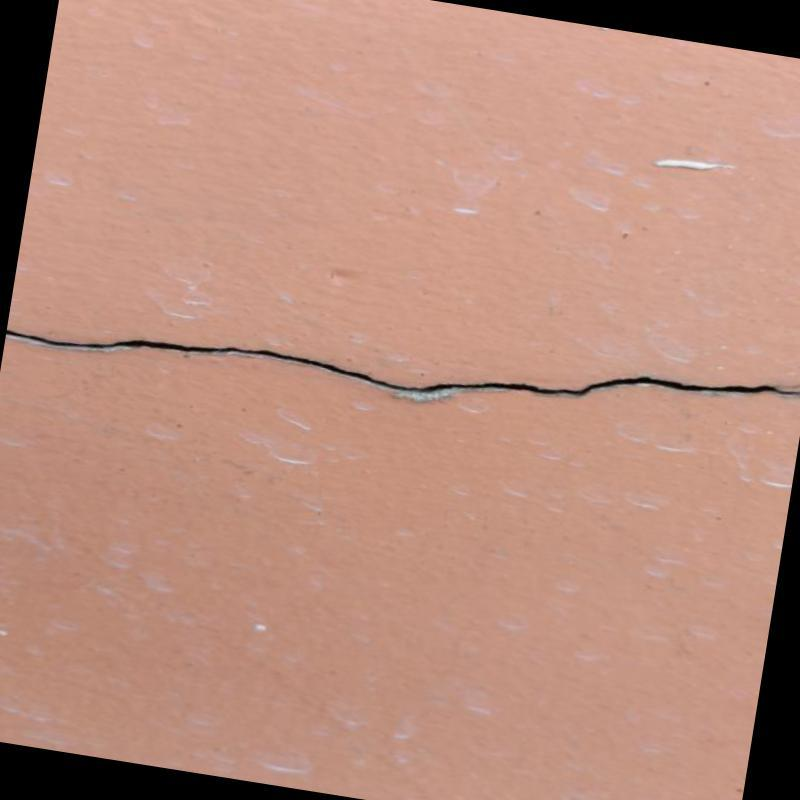crack: (5, 330, 800, 402)
